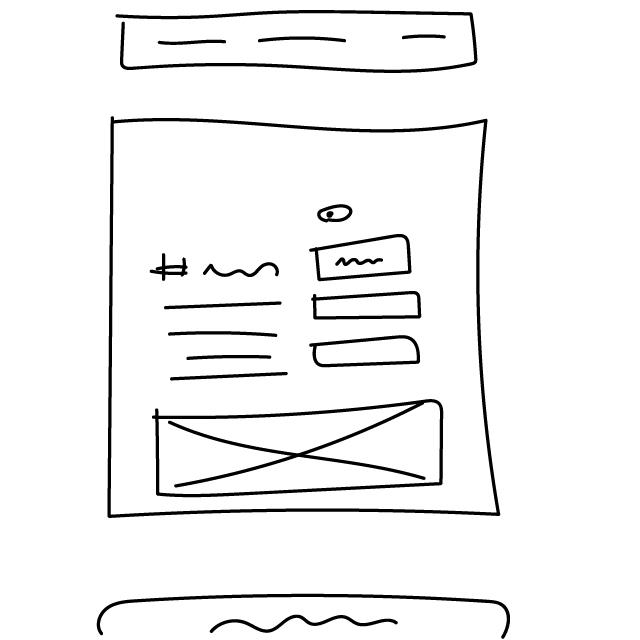button: (307, 231, 416, 283)
checkbox: (316, 202, 359, 225)
container: (89, 100, 516, 534)
footer: (89, 586, 516, 640)
frame: (147, 396, 451, 502)
heading: (150, 251, 287, 288)
input: (308, 334, 427, 373), (309, 288, 430, 323)
nav: (109, 6, 487, 77)
text: (160, 301, 293, 381)
